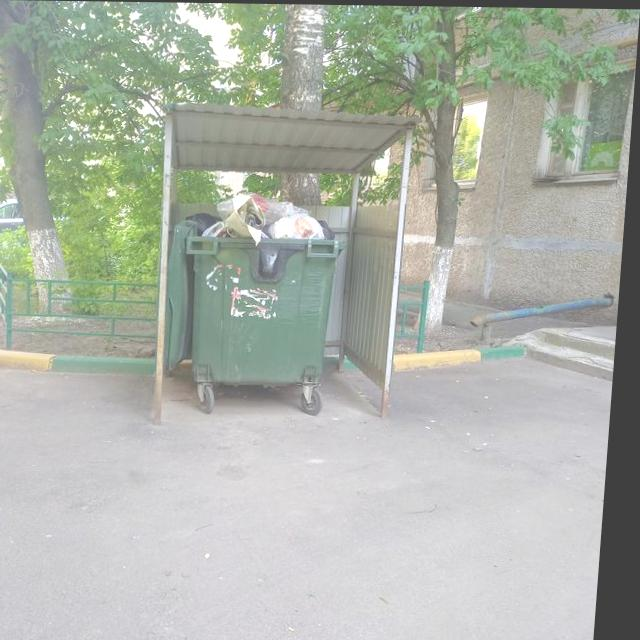Trash_Can_Full: (183, 190, 350, 385)
